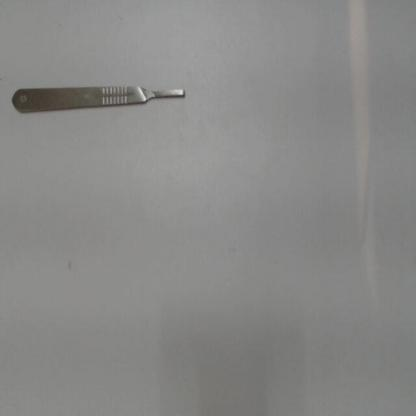No.4 BP Handle: (7, 75, 194, 125)
